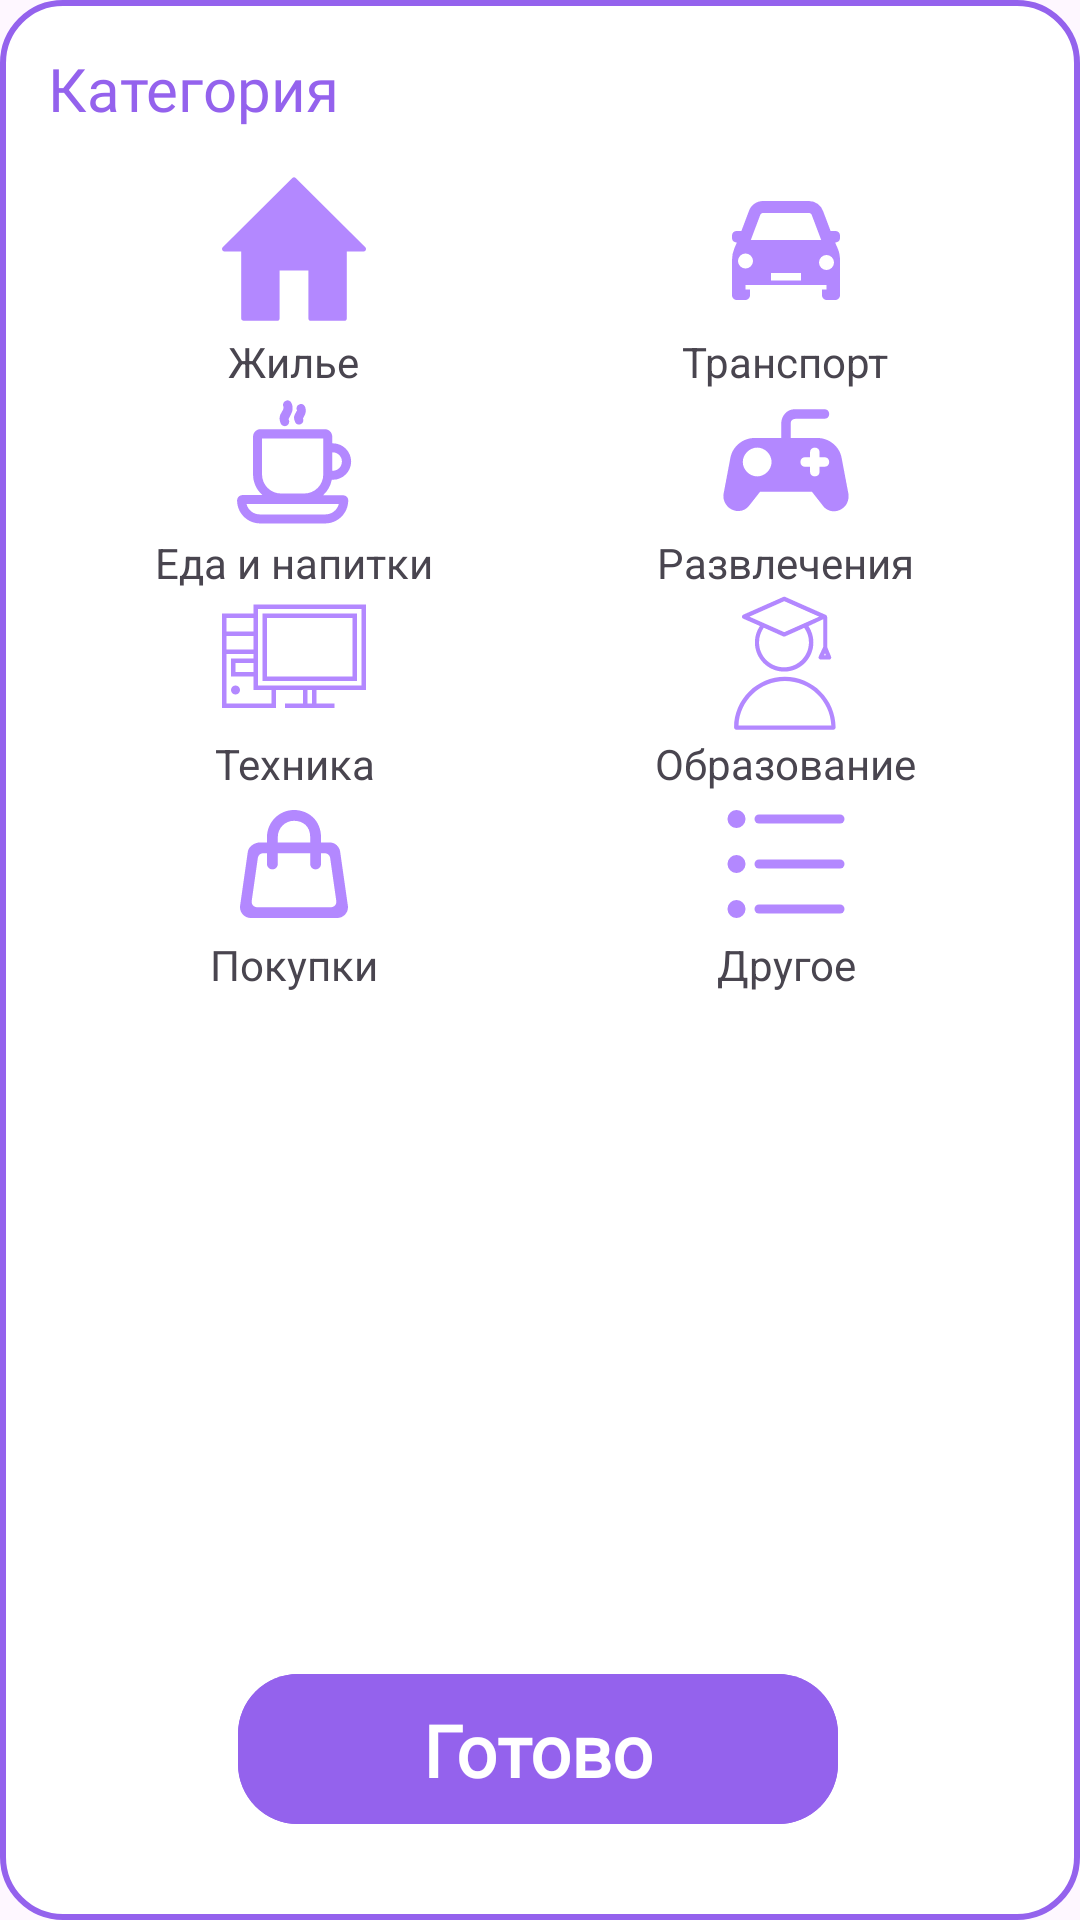

Where icons sit on this 1080px x 1920px app screen, as [x1, y1, x2, y2]:
computer: [222, 604, 366, 708]
gaming: [723, 409, 849, 512]
transport: [732, 201, 840, 300]
